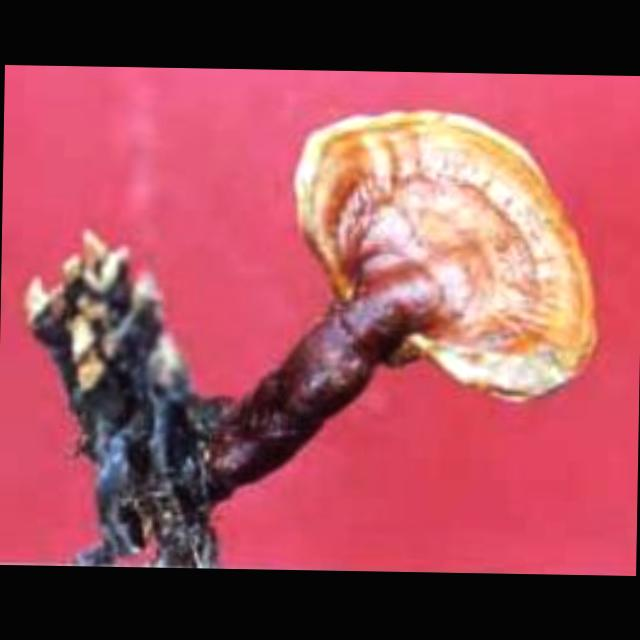ganoderma: (288, 106, 605, 408)
